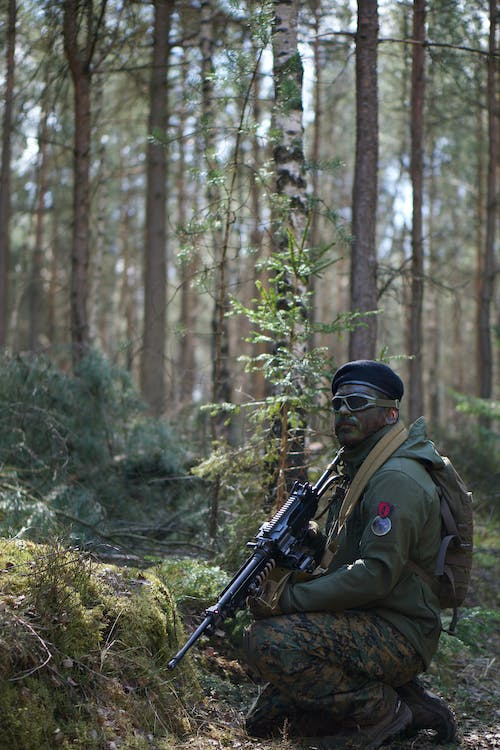gun: (162, 444, 348, 673)
